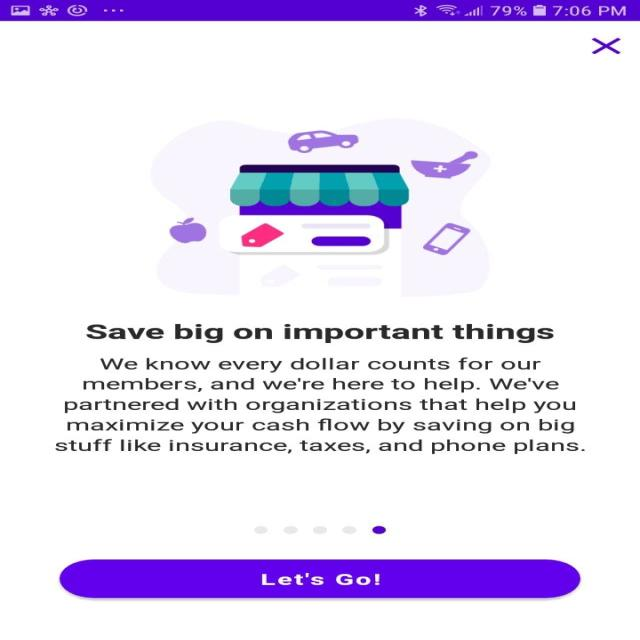Icon: (591, 37, 621, 54)
Image: (149, 117, 491, 297)
Text: (54, 356, 585, 454), (85, 322, 554, 343)
TextButton: (58, 558, 580, 598)
